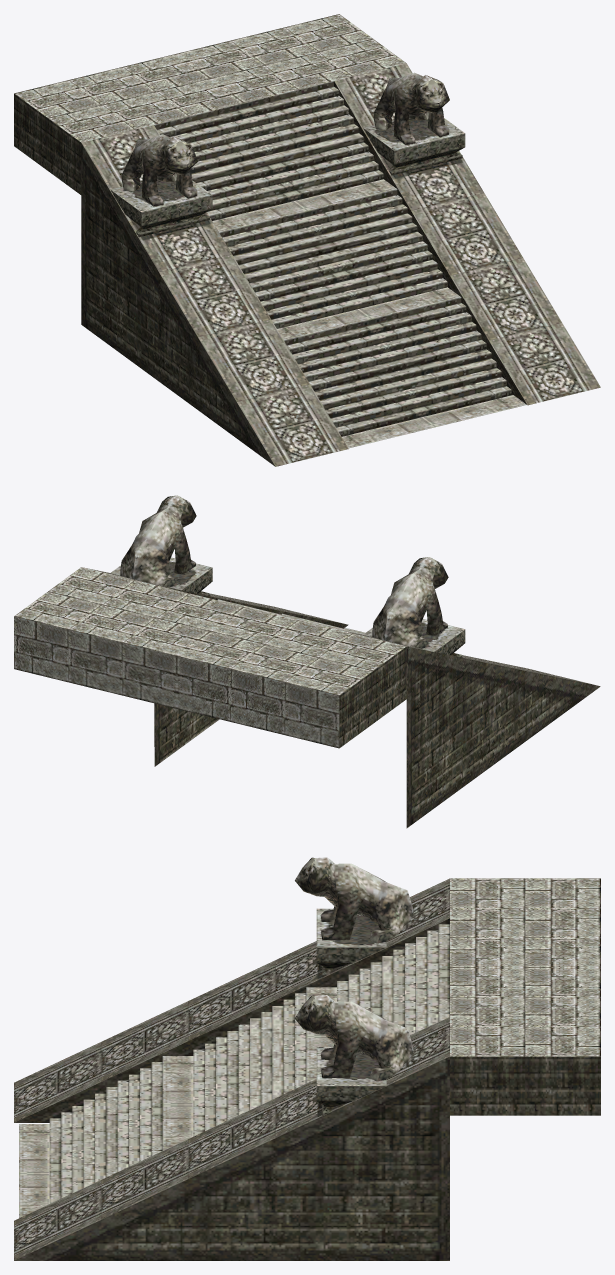
File: a1s-002-inwall-02.glb
3 renders of one model, top to bottom at view 1: azimuth 30°, elevation 25°; view 2: azimuth 150°, elevation 25°; view 3: azimuth 270°, elevation 25°, orthographic. The views are drawn at different scales.
Visible parts, largest first — view 1: 11; view 2: 11; view 3: 11.
Boxes of the visible parts, x1,y1,x2,y2 form: 11: [14, 14, 600, 466]; 11: [14, 495, 600, 828]; 11: [14, 857, 600, 1260].
Size of the model in its own units: 11.38 by 7.39 by 15.85.
Materials: 1 (1 with a texture image).
